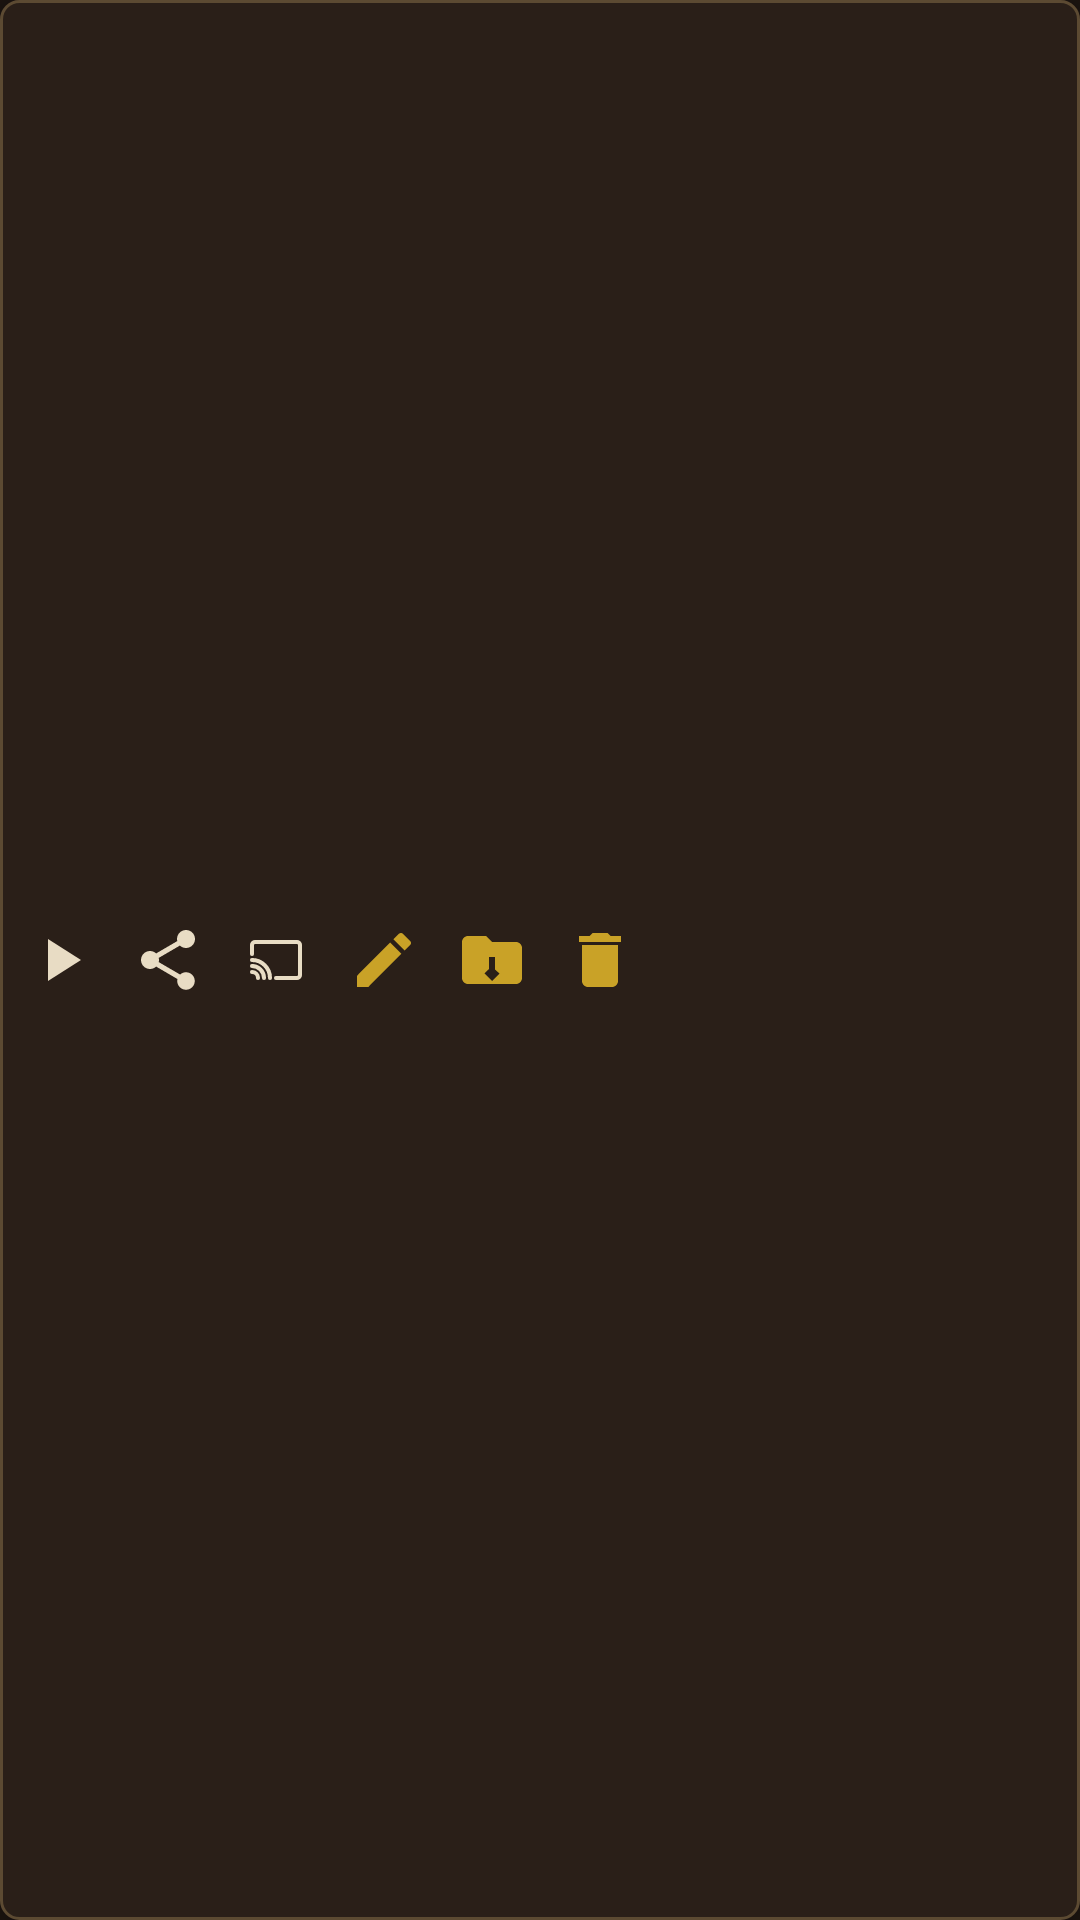

Named icons in this screenshot (1080px×1920px) and their centers, (x=x, y=y):
Mută fișierul: (x=492, y=960)
Partajă fișierul: (x=168, y=960)
Proiectează pe Chromecast: (x=276, y=960)
Redenumește: (x=384, y=960)
Redă fișierul: (x=64, y=960)
Șterge fișierul: (x=600, y=960)
